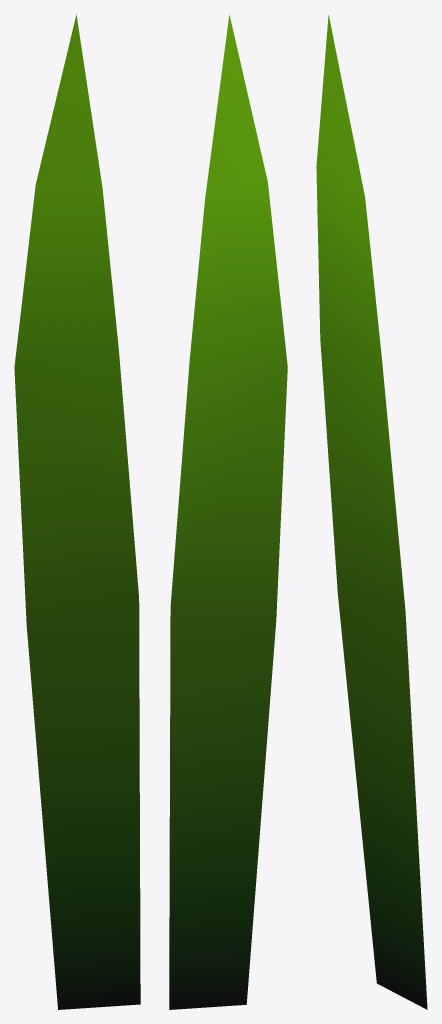
File: grass.glb
3 views of the same model, side by side, from view 1: azimuth 30°, elevation 25°; view 2: azimuth 210°, elevation 25°; view 3: azimuth 330°, elevation 25° (orthographic). The views are drawn at different scales.
Parts seen in each view (by area): view 1: Grass_Common_Short.001; view 2: Grass_Common_Short.001; view 3: Grass_Common_Short.001.
Part boxes in pixels (x1,y1,x2,y2): Grass_Common_Short.001: (14, 14, 140, 1009); Grass_Common_Short.001: (169, 14, 287, 1009); Grass_Common_Short.001: (316, 15, 427, 1009).
Size of the model in its own units: 0.0668 by 0.5512 by 0.0333.
Materials: 1 (1 with a texture image).
